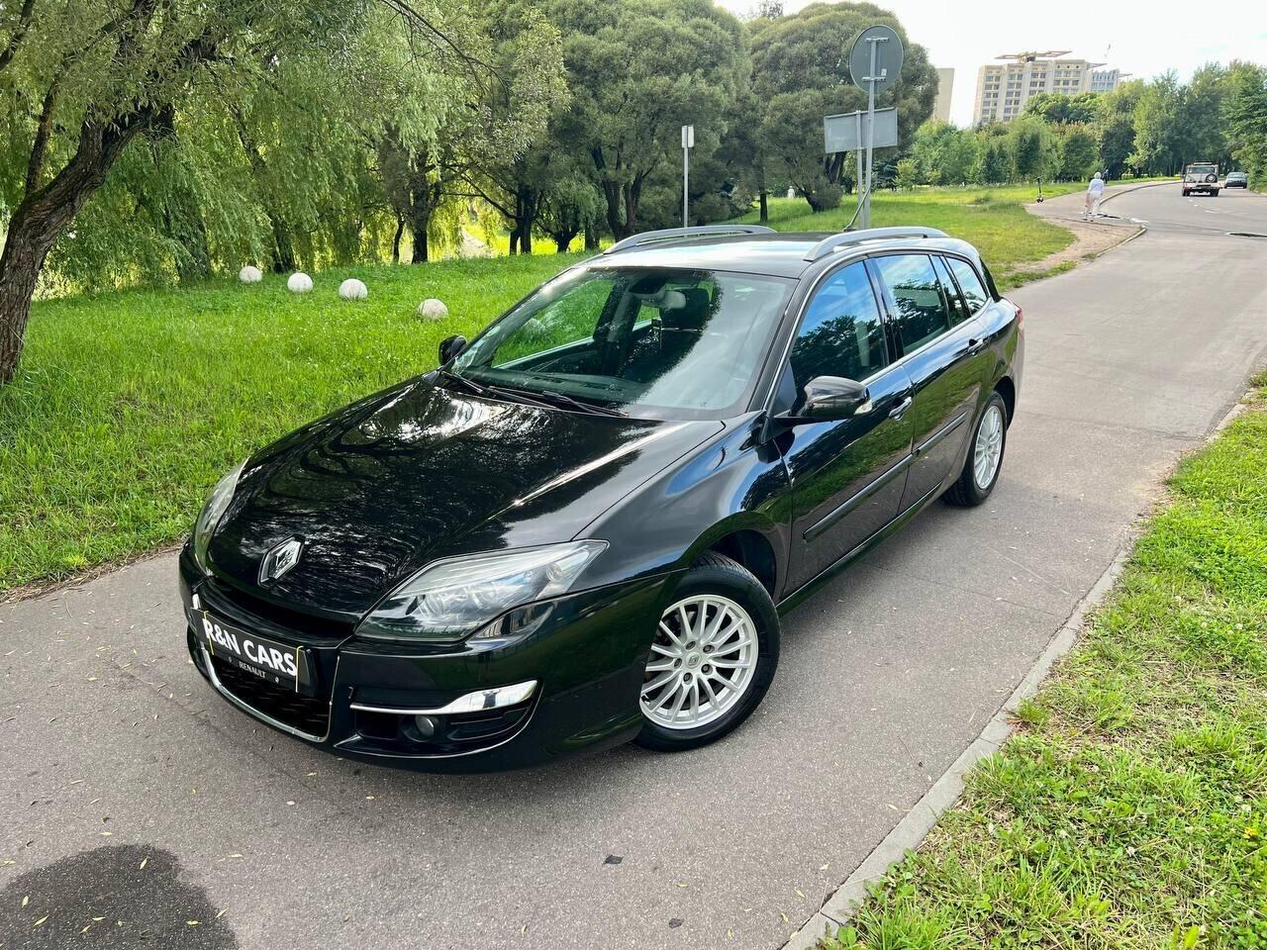Laguna_2010-2015: (170, 218, 1046, 776)
